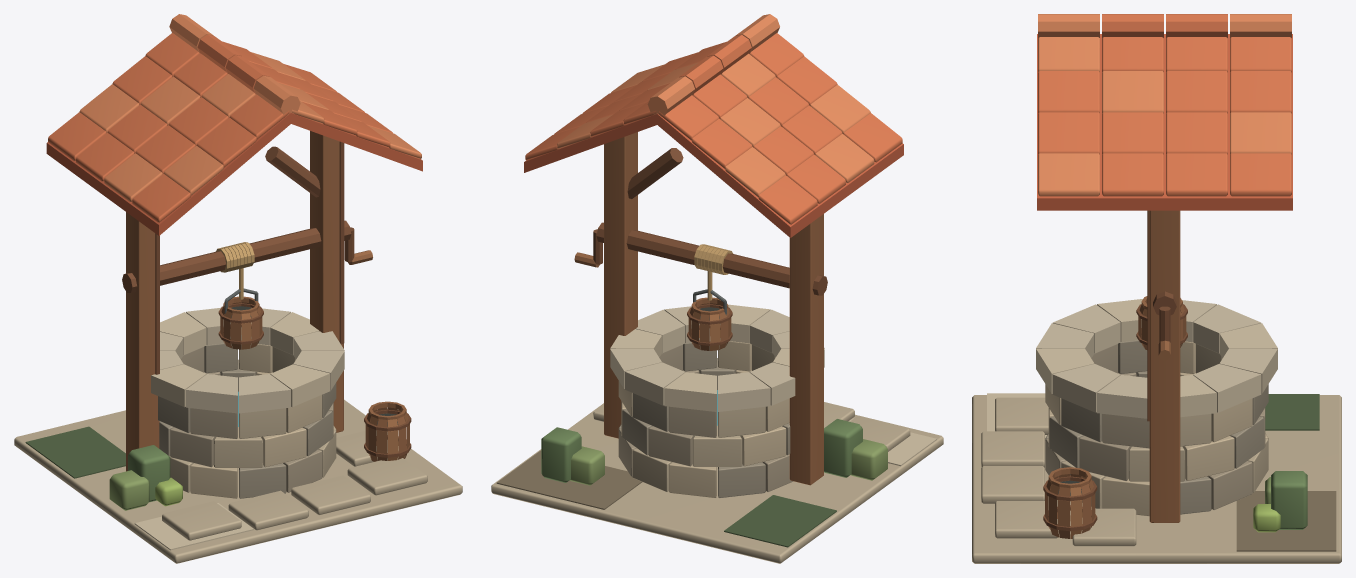
Rendered from well.glb.
3 views of the same model, side by side, from view 1: azimuth 30°, elevation 25°; view 2: azimuth 150°, elevation 25°; view 3: azimuth 270°, elevation 25° (orthographic). The views are drawn at different scales.
Visible parts, largest first — view 1: well; view 2: well; view 3: well.
Boxes of the visible parts, x1,y1,x2,y2 form: well: (14,14,462,563); well: (491,14,943,563); well: (972,14,1341,563).
Size of the model in its own units: 1.66 by 2.27 by 1.62.
